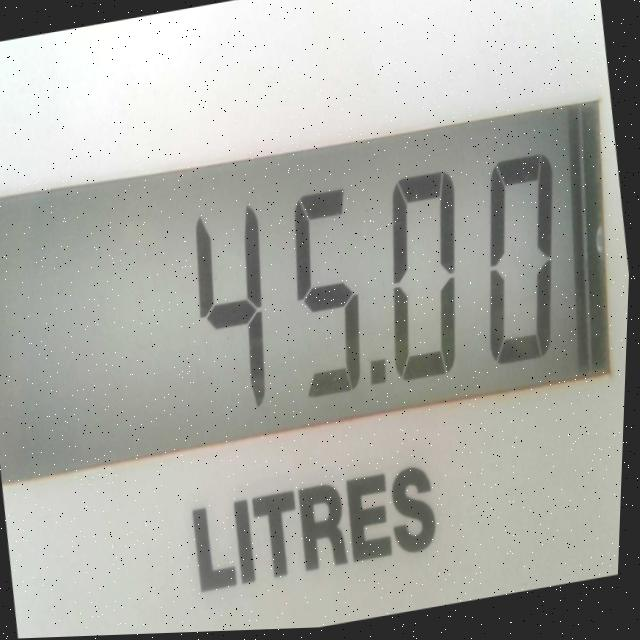.: (360, 350, 396, 408)
0: (367, 164, 482, 398), (465, 153, 576, 370)
4: (183, 213, 284, 408)
5: (282, 194, 381, 404)
